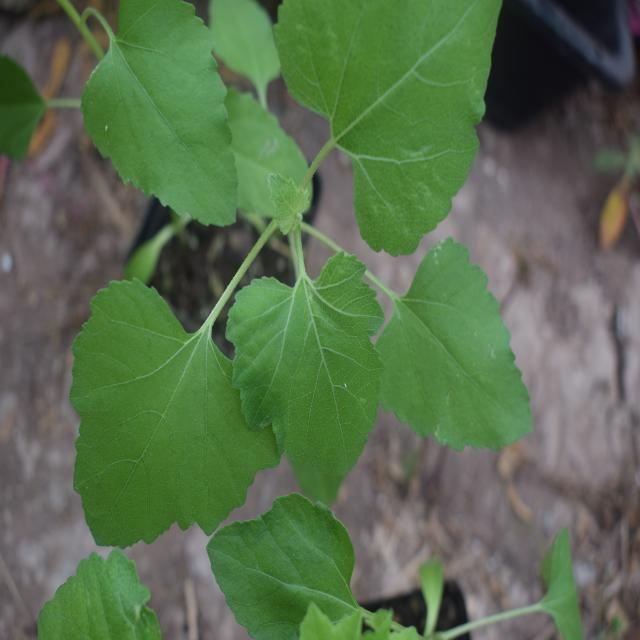cocklebur: (27, 0, 540, 516)
